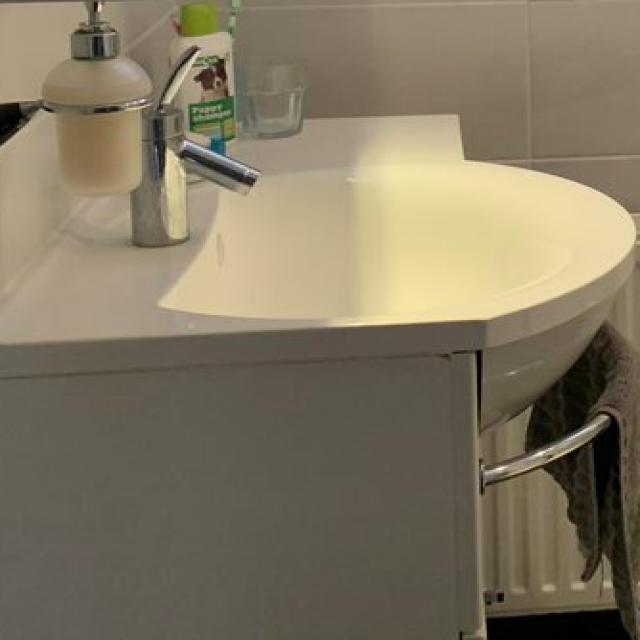wastafel: (0, 346, 488, 640), (128, 42, 640, 322)
